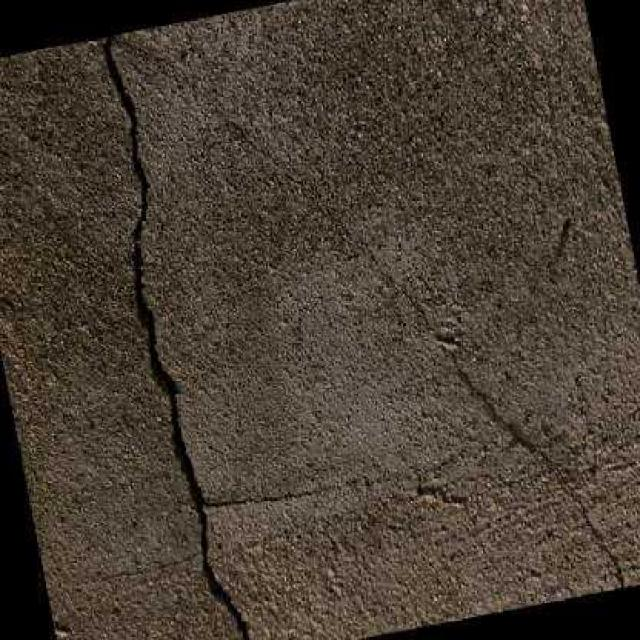D00: (99, 34, 259, 640)
